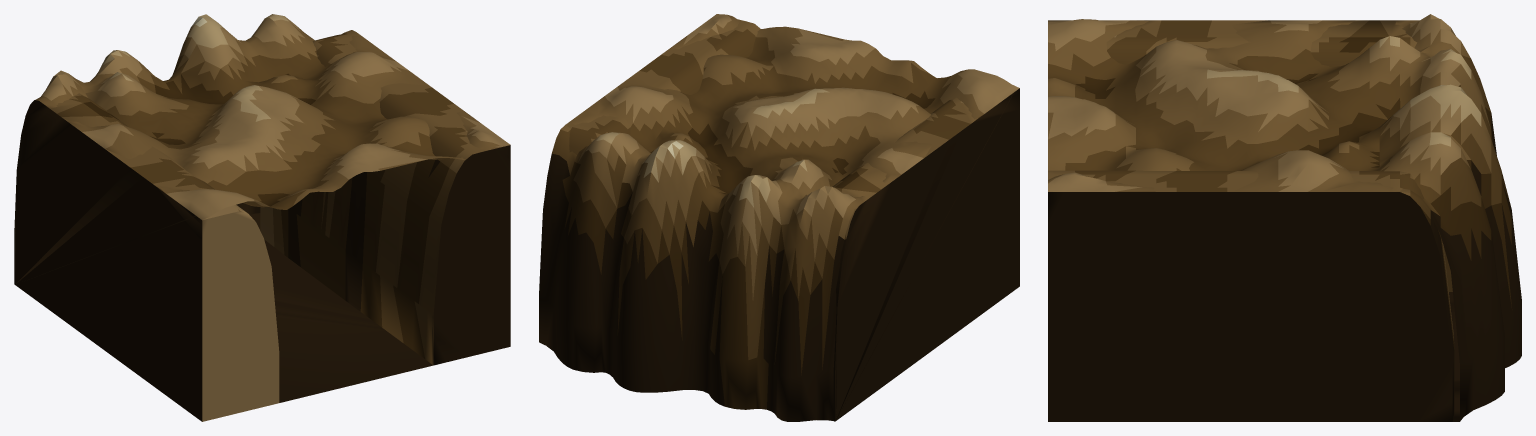
The model's file is ixm_wall_rock_top.glb.
The picture shows the model from 3 angles, left to right: view 1: azimuth 30°, elevation 25°; view 2: azimuth 150°, elevation 25°; view 3: azimuth 270°, elevation 25°; orthographic projection. The views are drawn at different scales.
Visible parts, largest first — view 1: ixm_wall_rock_top_rock_rock, ixm_wall_rock_top_rock_slot, ixm_wall_rock_top_rock_end_r; view 2: ixm_wall_rock_top_rock_rock, ixm_wall_rock_top_rock_slot, ixm_wall_rock_top_rock_end_r; view 3: ixm_wall_rock_top_rock_end_r, ixm_wall_rock_top_rock_rock, ixm_wall_rock_top_rock_slot.
Part boxes in pixels (left/top/right/bottom): ixm_wall_rock_top_rock_rock: left=15, top=14, right=510, bottom=402; ixm_wall_rock_top_rock_slot: left=14, top=93, right=279, bottom=421; ixm_wall_rock_top_rock_end_r: left=260, top=32, right=510, bottom=365; ixm_wall_rock_top_rock_rock: left=539, top=14, right=1019, bottom=421; ixm_wall_rock_top_rock_slot: left=832, top=88, right=1019, bottom=421; ixm_wall_rock_top_rock_end_r: left=566, top=19, right=760, bottom=154; ixm_wall_rock_top_rock_end_r: left=1048, top=170, right=1454, bottom=421; ixm_wall_rock_top_rock_rock: left=1048, top=14, right=1521, bottom=421; ixm_wall_rock_top_rock_slot: left=1106, top=20, right=1452, bottom=291.
Size of the model in its own units: 24 by 17.23 by 28.
